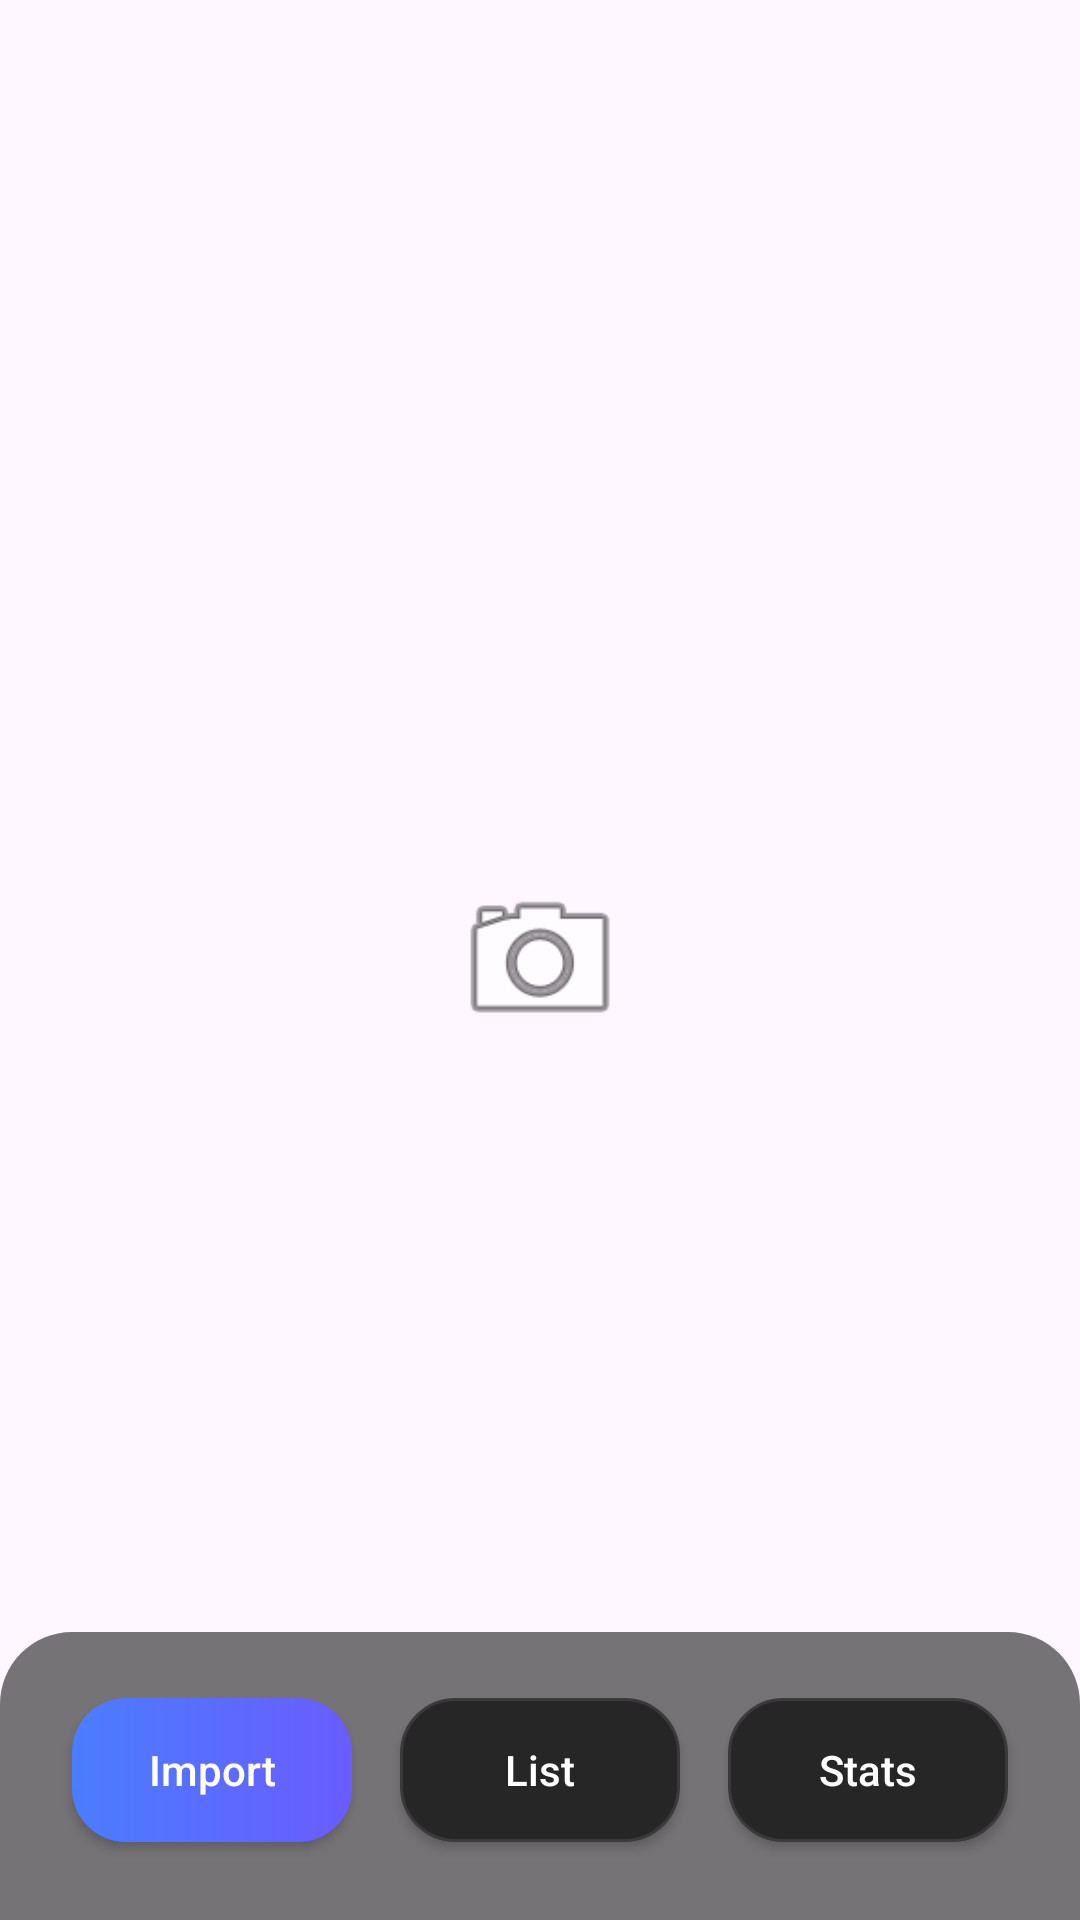

Named icons in this screenshot (1080x1920) and their bounding boxes, detection(x1, y1, x2, y2):
Take picture: detection(470, 902, 610, 1013)
